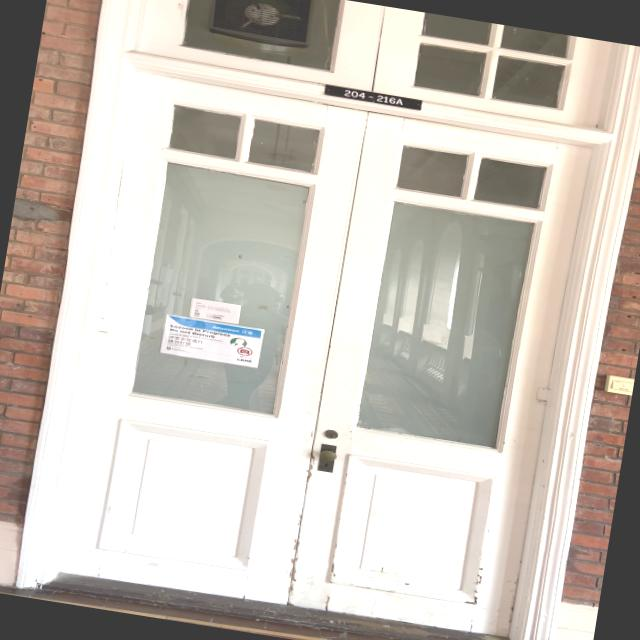room204: (316, 79, 428, 115)
